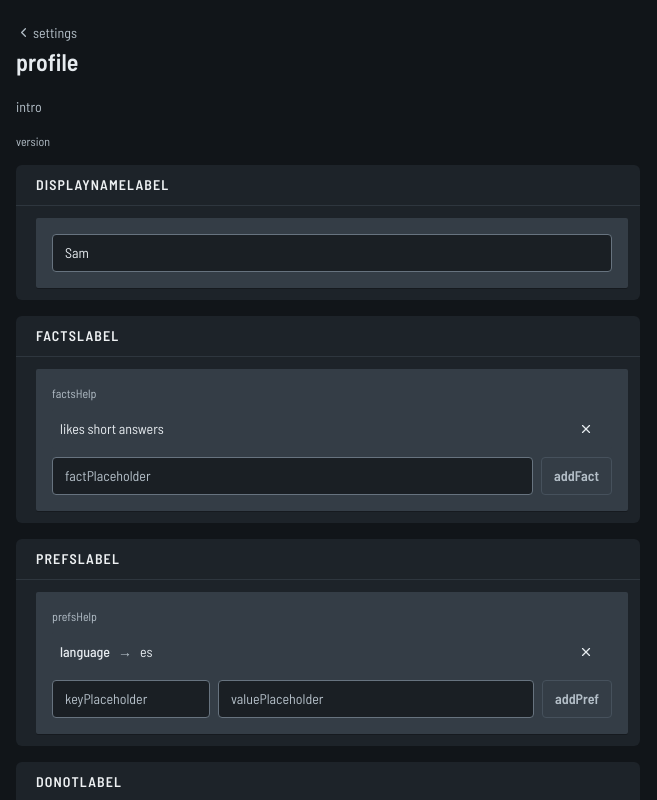
Test: UserProfilePage › Save button is disabled until something changes
The width and height of the screenshot is (657, 800).
Expected: the text "likes short answers" is shown, x1=60 y1=420 x2=164 y2=436
In the field with placeholder "factPlaceholder": (292,476) x1=52 y1=456 x2=533 y2=494, type "CTO of TAIA"
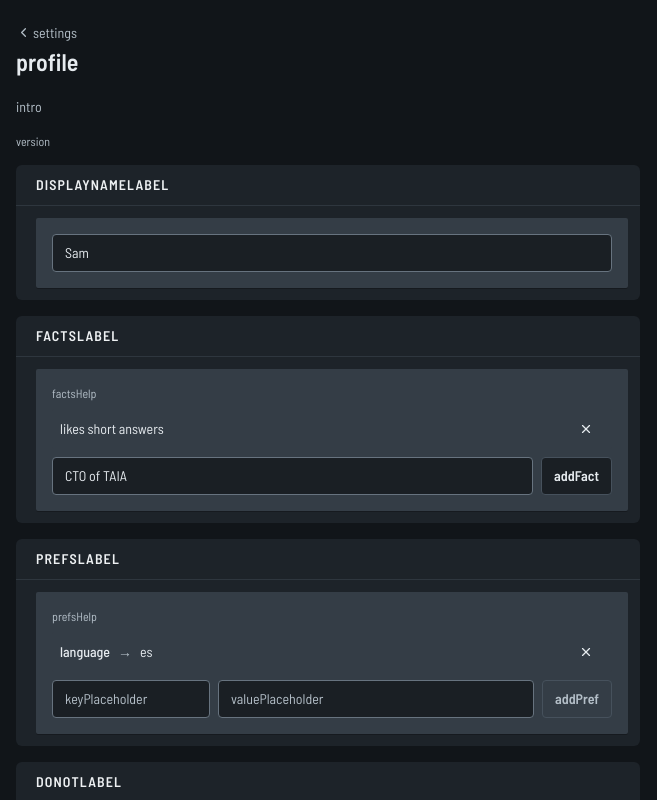
Click the button "addFact": (576,476) x1=541 y1=456 x2=612 y2=494
(page scrolled)
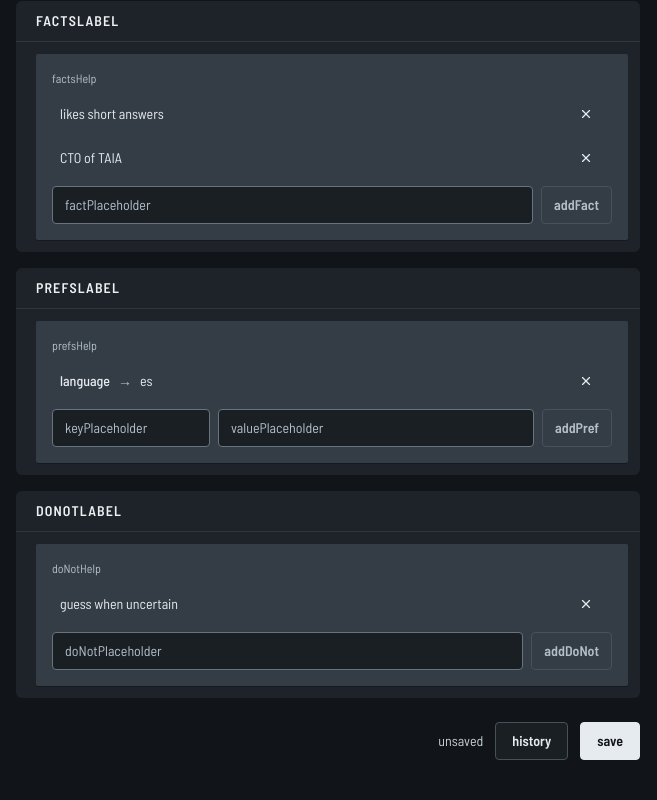
Expected: the button "save" is enabled, x1=580 y1=722 x2=640 y2=760
